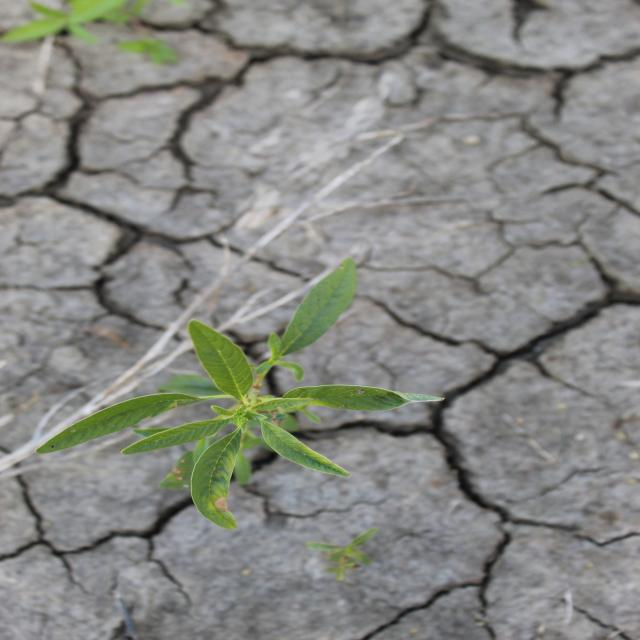Waterhemp: (32, 254, 449, 533)
